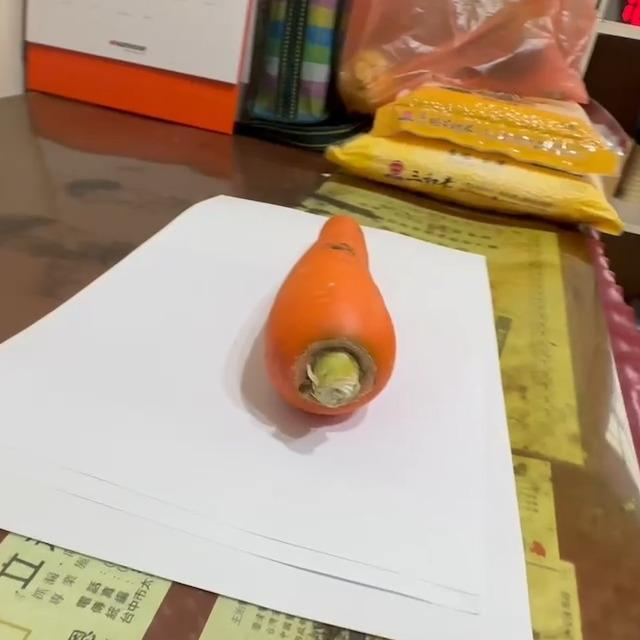carrot: (262, 212, 402, 419)
